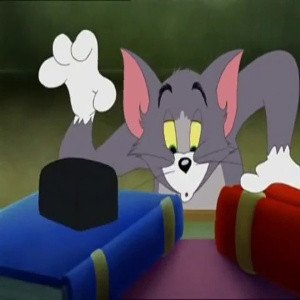Tom: (116, 52, 244, 199)
